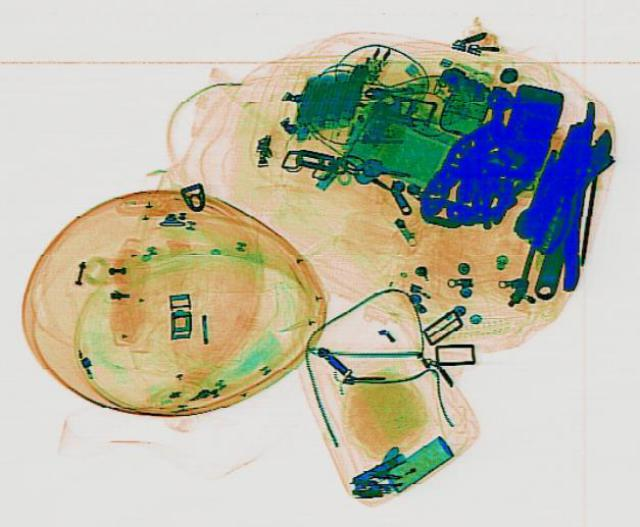Wrench: (516, 117, 620, 302)
